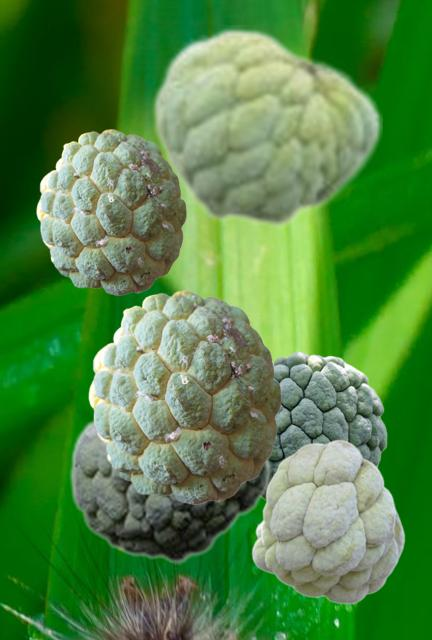atis: (150, 25, 381, 229), (88, 290, 280, 503), (69, 416, 270, 563), (251, 439, 404, 603), (36, 129, 185, 294), (263, 351, 386, 500)
